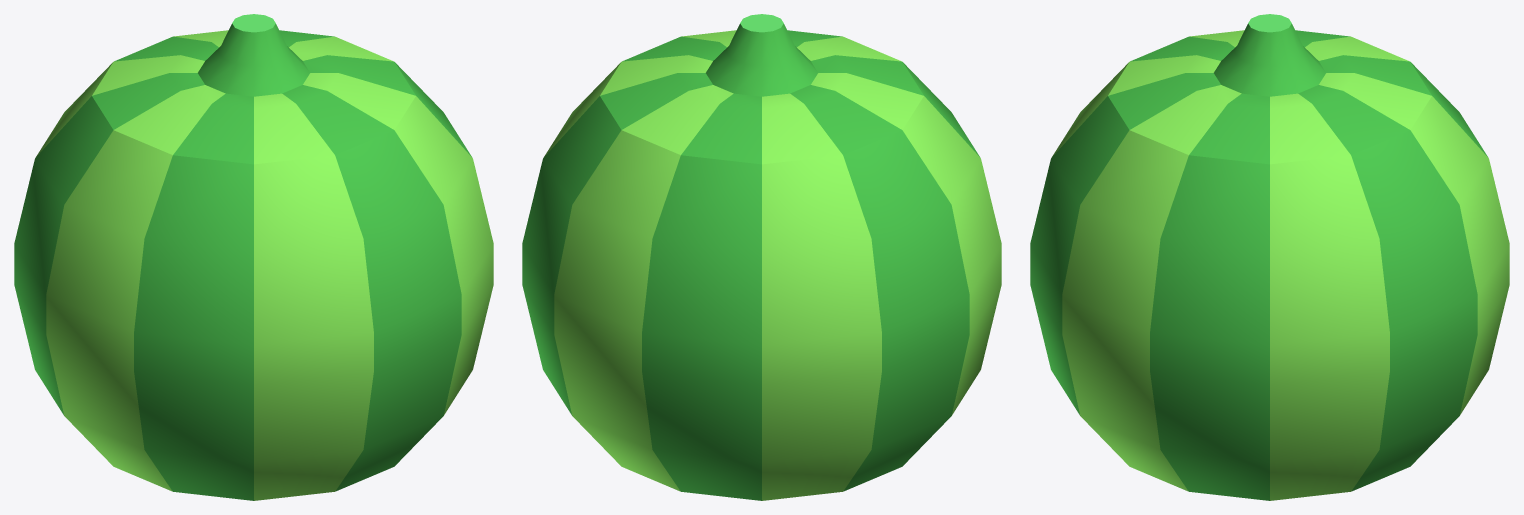
Rendered from Watermelon.fbx.
The picture shows the model from 3 angles, left to right: view 1: azimuth 30°, elevation 25°; view 2: azimuth 150°, elevation 25°; view 3: azimuth 270°, elevation 25°; orthographic projection.
Visible parts, largest first — view 1: Watermelon; view 2: Watermelon; view 3: Watermelon.
Boxes of the visible parts, x1,y1,x2,y2 form: Watermelon: (14,14,493,500); Watermelon: (522,14,1001,500); Watermelon: (1030,14,1509,500).
Bounding box in the file's own units: 90.05 × 89.53 × 90.05.
